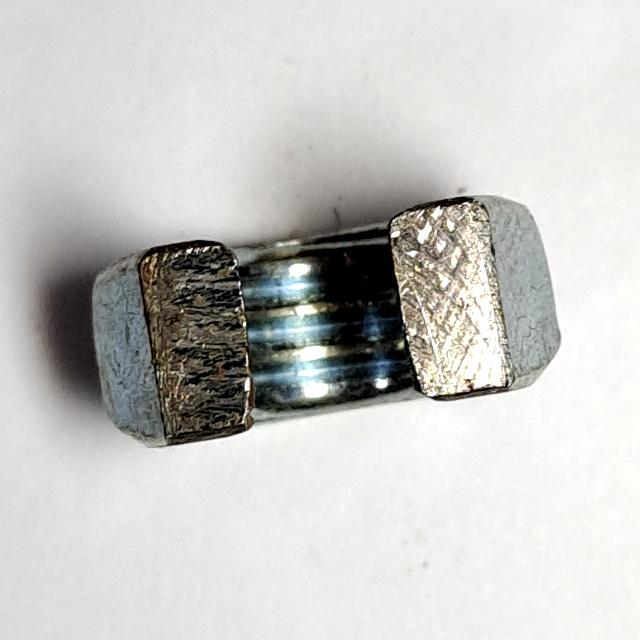Side-Fracture: (79, 184, 569, 471)
